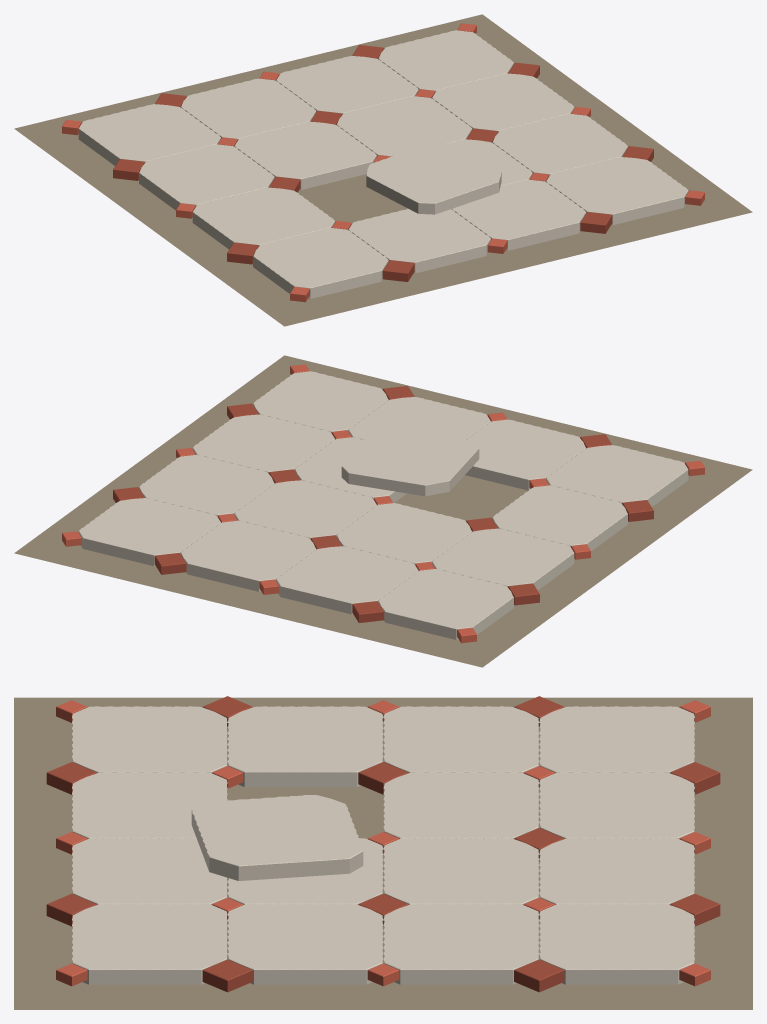
File: terilgan.glb
3 renders of one model, top to bottom at view 1: azimuth 30°, elevation 25°; view 2: azimuth 150°, elevation 25°; view 3: azimuth 270°, elevation 25°, orthographic. The views are drawn at different scales.
Parts seen in each view (by area): view 1: qum, t.008, t, t.029, t.021, t.011, t.007, t.017, t.012, t.004, t.018, t.026 (+9 smaller); view 2: qum, t.008, t.017, t.018, t.034, t.033, t.004, t, t.007, t.011, t.022, t.021 (+9 smaller); view 3: qum, t.008, t.007, t.029, t.034, t.026, t.037, t, t.017, t.004, t.018, t.021 (+19 smaller).
Part boxes in pixels (x1,y1,x2,y2): qum: [14, 14, 752, 326]; t.008: [366, 142, 501, 214]; t: [253, 228, 388, 298]; t.029: [546, 157, 688, 225]; t.021: [234, 121, 376, 189]; t.011: [348, 208, 490, 273]; t.007: [192, 187, 334, 249]; t.017: [78, 104, 220, 165]; t.012: [451, 179, 586, 250]; t.004: [139, 144, 274, 210]; t.018: [180, 78, 316, 140]; t.026: [492, 113, 627, 175]; qum: [14, 355, 752, 667]; t.008: [341, 429, 479, 496]; t.017: [378, 569, 513, 639]; t.018: [276, 546, 418, 614]; t.034: [78, 498, 220, 566]; t.033: [180, 520, 316, 591]; t.004: [432, 528, 574, 590]; t: [546, 445, 688, 506]; t.007: [492, 485, 627, 551]; t.011: [465, 419, 586, 490]; t.022: [234, 480, 376, 539]; t.021: [336, 503, 472, 564]; qum: [14, 697, 752, 1009]; t.008: [191, 795, 363, 880]; t.007: [227, 706, 383, 787]; t.029: [72, 904, 227, 984]; t.034: [539, 904, 694, 984]; t.026: [227, 904, 383, 984]; t.037: [383, 904, 539, 984]; t: [72, 706, 227, 773]; t.017: [539, 706, 694, 773]; t.004: [383, 706, 539, 773]; t.018: [539, 772, 694, 838]; t.021: [383, 772, 539, 838].
Size of the model in its own units: 1.66 by 0.078 by 1.66.
